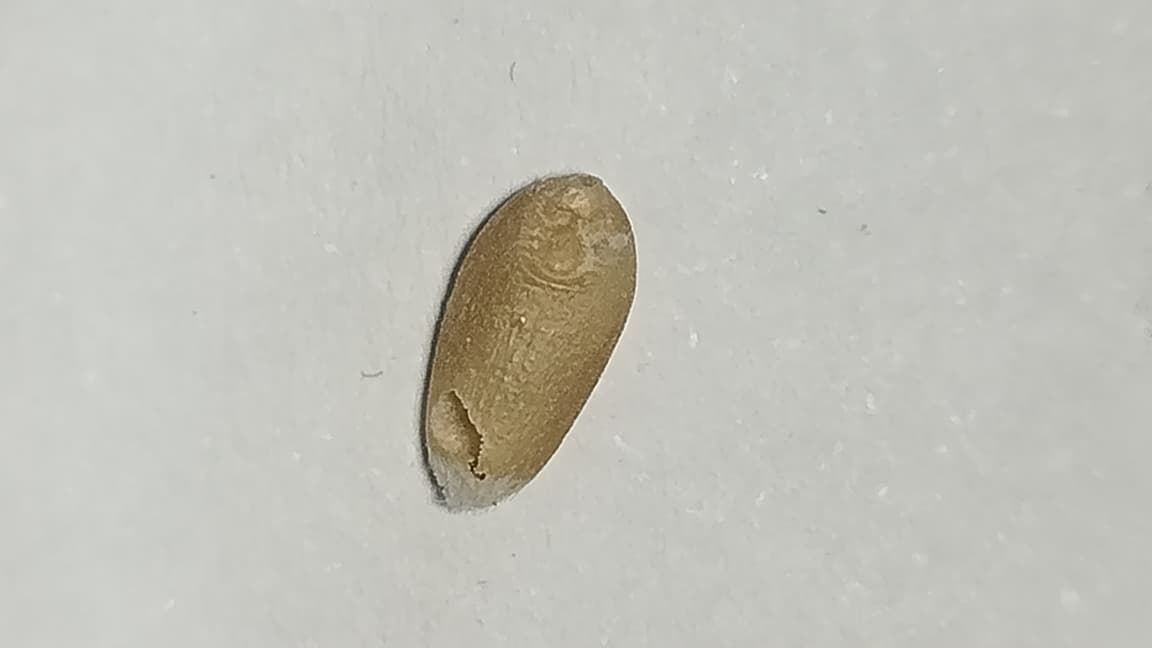damage: (425, 173, 635, 507)
insectdamage: (517, 180, 633, 293), (423, 349, 499, 495)
